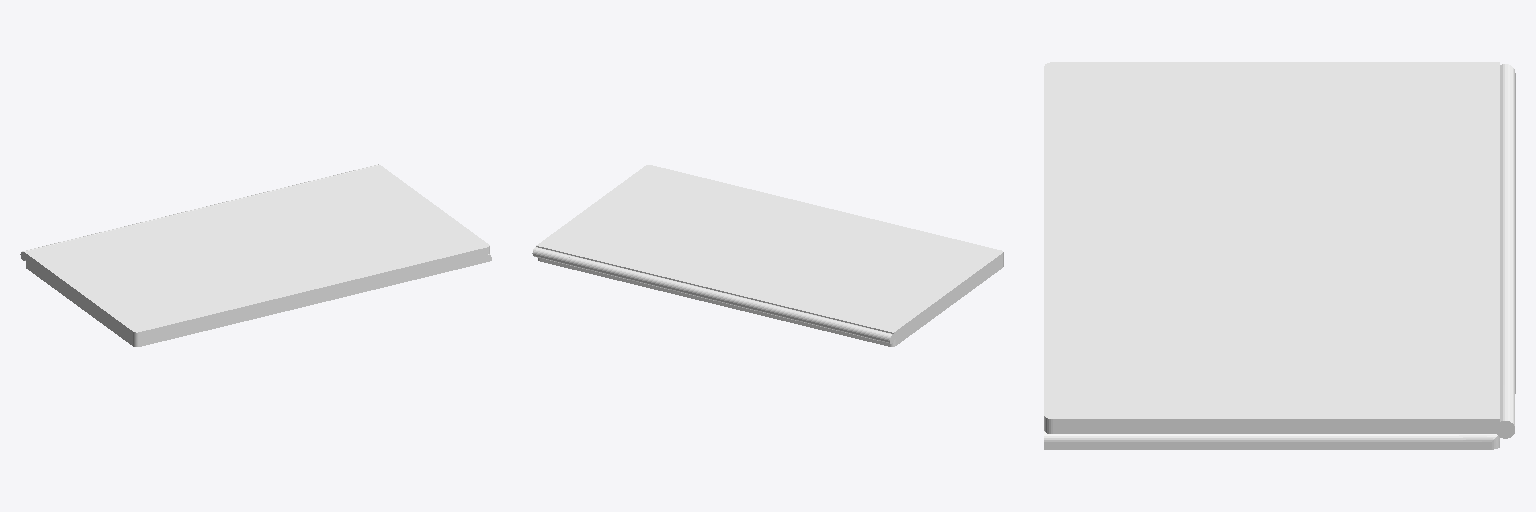
URDF robot description (laptop):
<?xml version="1.0"?>

<robot name="laptop">
  <link name="lap_down">
    <contact>
      <restitution value="1.0e-8" />
      <!-- <lateral_friction value="1.0e+8"/>
      <rolling_friction value="1.0e+8"/> 
      <spinning_friction value="1.0e+8"/>  -->
      <contact_cfm value="0.00001"/>
      <contact_erp value="0.2"/>
    </contact>
    <inertial>
      <origin xyz="0 0 0" />
      <mass value="0.1" />
      <inertia  ixx="1.0" ixy="0.0"  ixz="0.0"  iyy="1.0"  iyz="0.0"  izz="1.0" />
    </inertial>

    <visual>
      <origin xyz="0 0 0"/>
      <geometry>
	      <mesh filename="mesh/lap_down.stl" />
      </geometry>
      <material name="white">
        <color rgba="1.0 1.0 1.0 1.0"/>
      </material>
    </visual>

    <collision>
      <origin xyz="0 0 0"/>
      <geometry>
        <mesh filename="mesh/lap_down.stl" />
      </geometry>
    </collision>

  </link>



  <joint name="lap_joint" type="revolute">
    <parent link="lap_down"/>
    <child link="lap_up"/>
    <origin rpy="0 0 0" xyz="0 0 0" />
    <axis xyz="1 0 0"/>
    <limit lower="-2.2" upper="0.1" effort="1000" velocity="10" />
    <dynamics damping="100" friction="0.0" />

  </joint>

  <link name="lap_up">
    <contact>
      <restitution value="1.0e-8" />
      <!-- <lateral_friction value="1.0e+8"/>
      <rolling_friction value="1.0e+8"/> 
      <spinning_friction value="1.0e+8"/>  -->
      <contact_cfm value="0.00001"/>
      <contact_erp value="0.2"/>
    </contact>
    <inertial>
      <origin xyz="0 0 0" />
      <mass value="0.1" />
      <inertia  ixx="1.0" ixy="0.0"  ixz="0.0"  iyy="1.0"  iyz="0.0"  izz="1.0" />
    </inertial>
    <visual>
      <origin xyz="0 0 0"/>
      <geometry>
	      <mesh filename="mesh/lap_up.stl" />
      </geometry>
      <material name="white">
	<color rgba="1.0 1.0 1.0 1.0"/>
      </material>
    </visual>
    <collision>
      <origin xyz="0 0 0"/>
      <geometry>
	      <mesh filename="mesh/lap_up.stl" />
      </geometry>
    </collision>
  </link>

</robot>

--- Facts derived from the render (not from the file) ---
Views: 3 orthographic renders of the robot side by side, from view 1: azimuth 30°, elevation 25°; view 2: azimuth 150°, elevation 25°; view 3: azimuth 270°, elevation 25°.
Robot: laptop — 2 links, 1 joints (1 revolute); root link lap_down; default pose: every joint at zero.
Links seen in each view (by area): view 1: lap_up, lap_down; view 2: lap_up, lap_down; view 3: lap_up, lap_down.
Boxes of the visible links, box(x1,y1,x2,y2) form: lap_up: box(20, 164, 489, 339); lap_down: box(26, 173, 491, 346); lap_up: box(532, 165, 1003, 343); lap_down: box(538, 256, 1003, 346); lap_up: box(1044, 62, 1515, 438); lap_down: box(1044, 100, 1515, 449).
Size in the robot's own frame: 0.5 by 0.279 by 0.02 metres.
Meshes: 2 distinct files referenced, 2 mesh visuals loaded (2 binary STL).